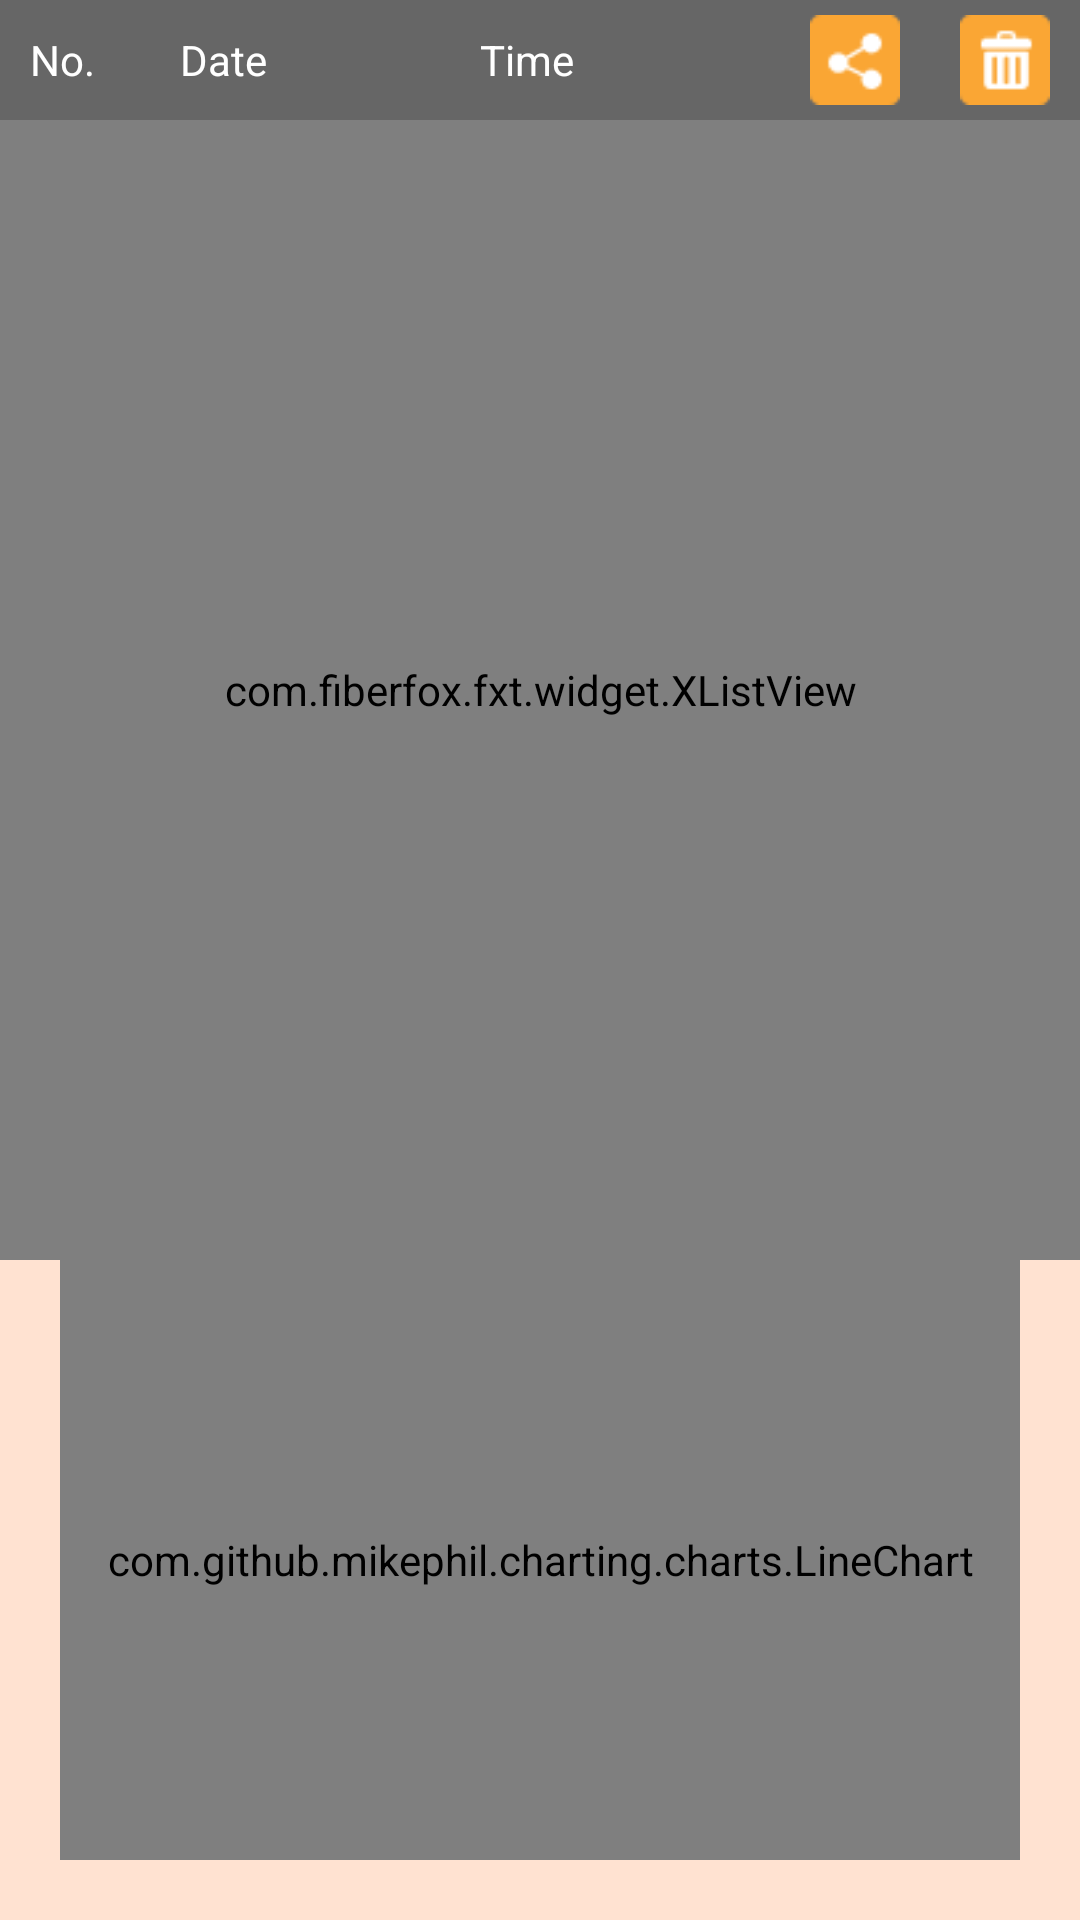

Locate icon controls on the screen. Image size 1080x1920, boxes as (x1, y1, x2, y2).
share: (810, 15, 900, 105)
trash: (960, 15, 1050, 105)
